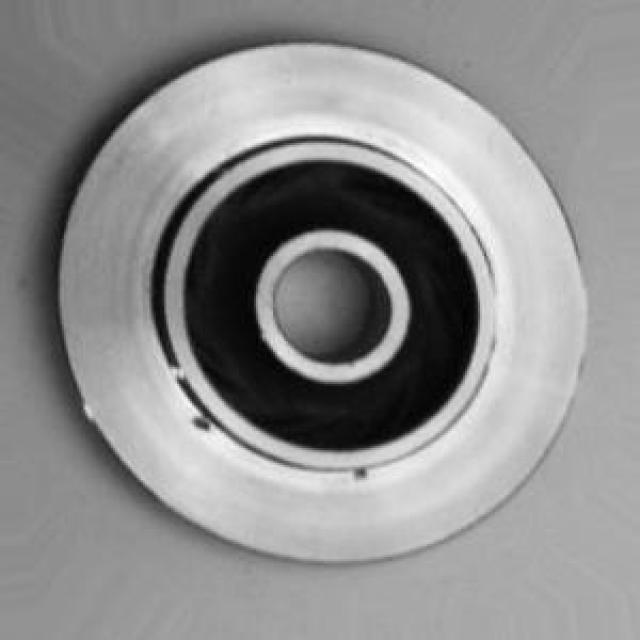Defect: (348, 460, 374, 489)
